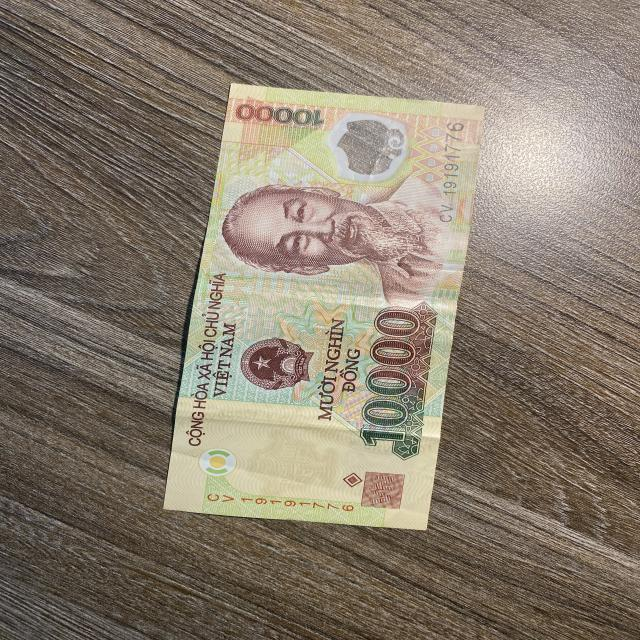10 000 VND: (159, 80, 487, 534)
